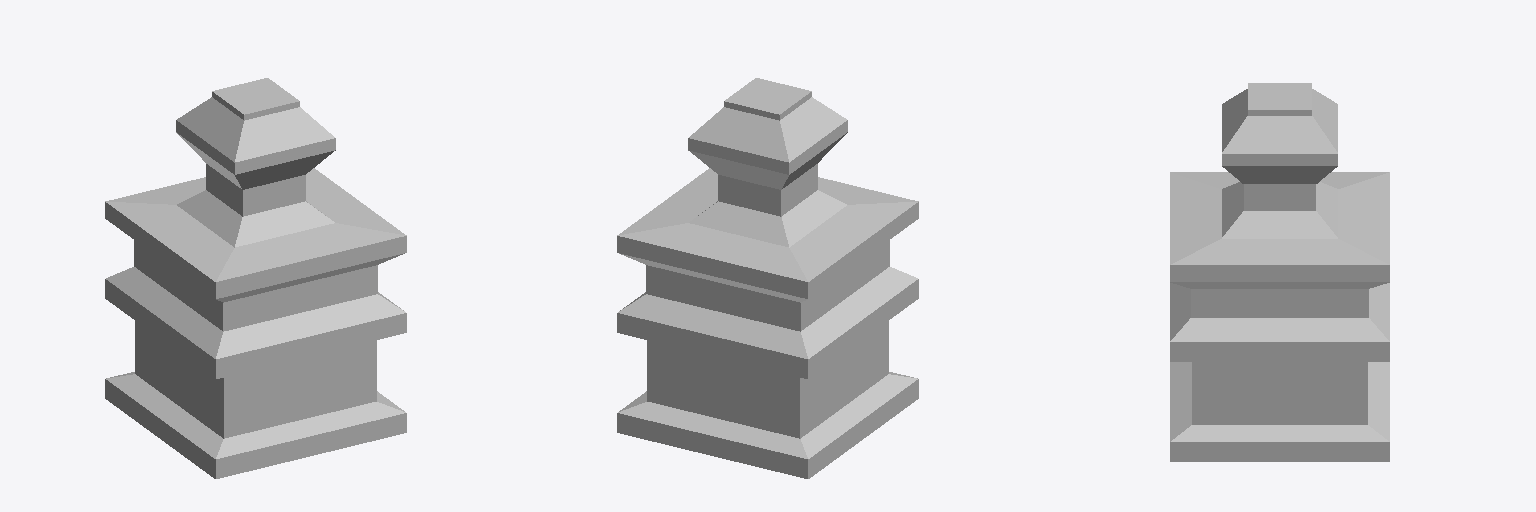
Rendered from Surveillance Center.obj.
The picture shows the model from 3 angles: view 1: azimuth 30°, elevation 25°; view 2: azimuth 150°, elevation 25°; view 3: azimuth 270°, elevation 25°; orthographic projection.
Visible parts, largest first — view 1: Surveillance_Center; view 2: Surveillance_Center; view 3: Surveillance_Center.
Boxes of the visible parts, x1,y1,x2,y2 form: Surveillance_Center: [105, 78, 406, 478]; Surveillance_Center: [617, 78, 918, 478]; Surveillance_Center: [1170, 83, 1389, 461].
Size of the model in its own units: 2.19 by 3.5 by 2.19.